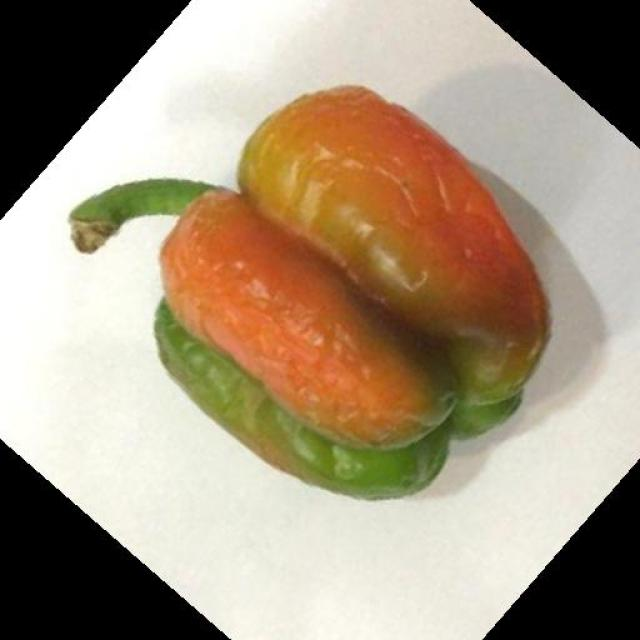Stale_Capsicum: (142, 77, 515, 534)
